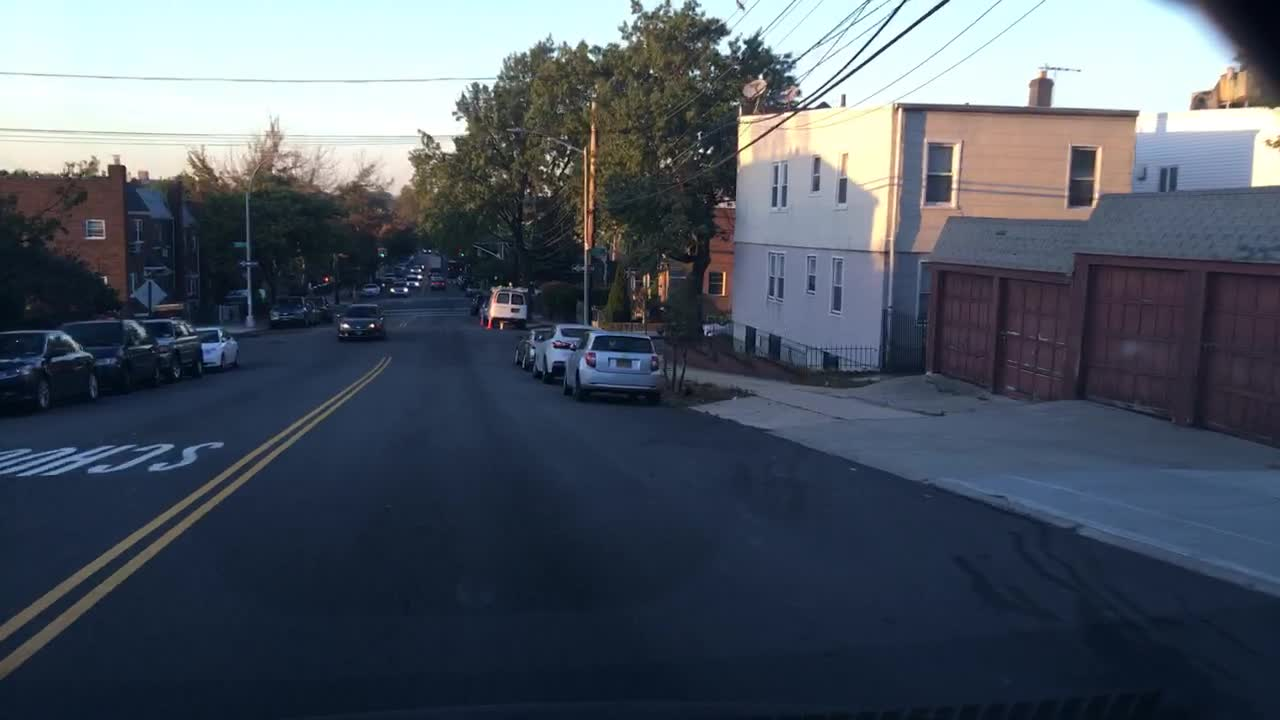car: (54, 316, 170, 398), (0, 325, 103, 416), (556, 328, 669, 407), (526, 321, 612, 388), (136, 316, 211, 386), (187, 323, 245, 377), (332, 300, 390, 346), (484, 284, 530, 332), (266, 293, 318, 332), (512, 325, 554, 370), (222, 285, 274, 313), (302, 291, 337, 325), (465, 290, 493, 321), (386, 280, 411, 301), (358, 281, 385, 300), (460, 281, 484, 300), (378, 270, 407, 284), (428, 279, 453, 293), (404, 278, 426, 292), (454, 276, 474, 291), (402, 273, 426, 285), (395, 259, 413, 273), (392, 264, 409, 278), (428, 272, 446, 284), (453, 272, 468, 286), (411, 261, 428, 273), (420, 246, 435, 256)
traffic sign: (131, 271, 170, 313), (566, 259, 598, 275), (234, 259, 262, 270), (584, 246, 608, 258), (225, 238, 246, 250), (456, 243, 467, 263), (318, 270, 332, 284), (376, 242, 386, 259), (379, 242, 390, 257), (372, 243, 381, 257)
